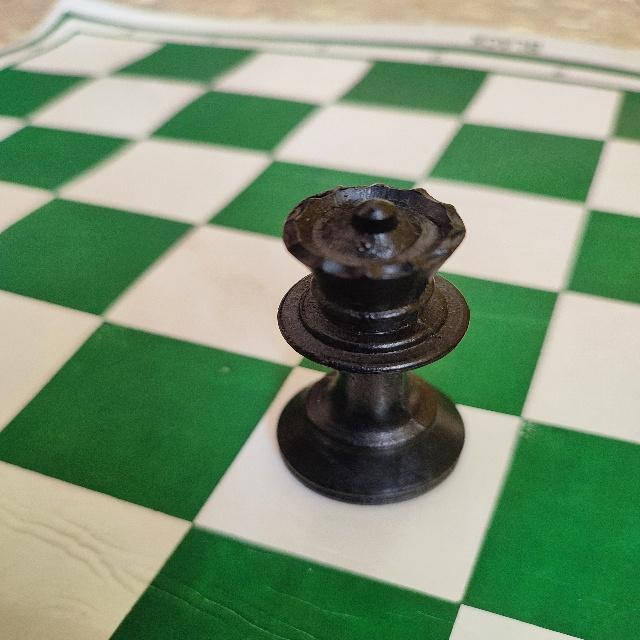Queen: (275, 180, 473, 508)
